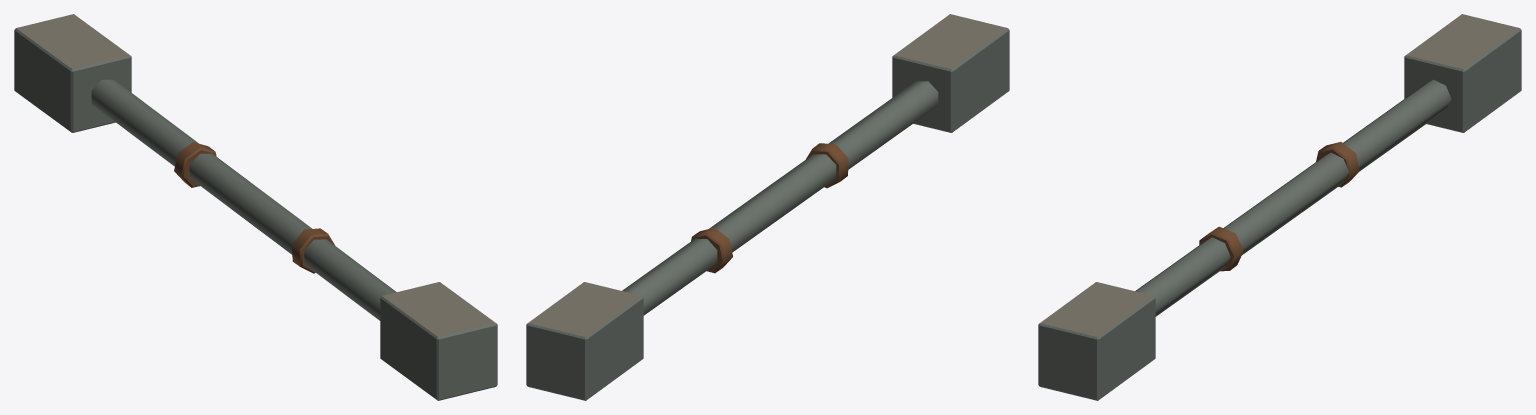
File: R4C_ROD_LONG_LOD1.fbx
The picture shows the model from 3 angles, left to right: view 1: azimuth 30°, elevation 25°; view 2: azimuth 150°, elevation 25°; view 3: azimuth 330°, elevation 25°; orthographic projection.
Parts seen in each view (by area): view 1: R4C_ROD_LONG_LOD1; view 2: R4C_ROD_LONG_LOD1; view 3: R4C_ROD_LONG_LOD1.
Boxes of the visible parts, x1,y1,x2,y2 form: R4C_ROD_LONG_LOD1: [14, 14, 497, 400]; R4C_ROD_LONG_LOD1: [526, 14, 1009, 400]; R4C_ROD_LONG_LOD1: [1038, 14, 1521, 400].
Bounding box in the file's own units: 0.226 × 0.226 × 2.72.
